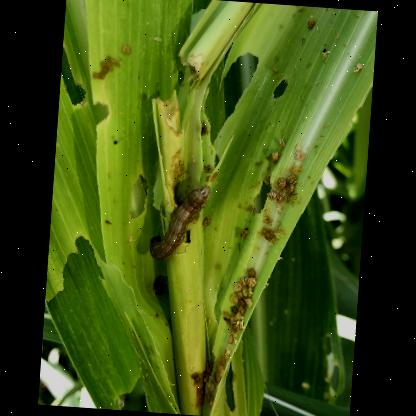Fall Armyworm Larvae: (146, 179, 214, 267)
